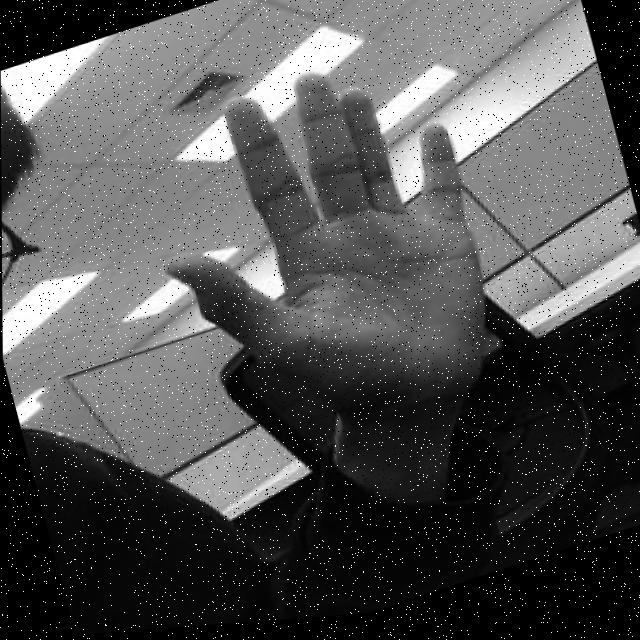hand: (124, 27, 516, 476)
